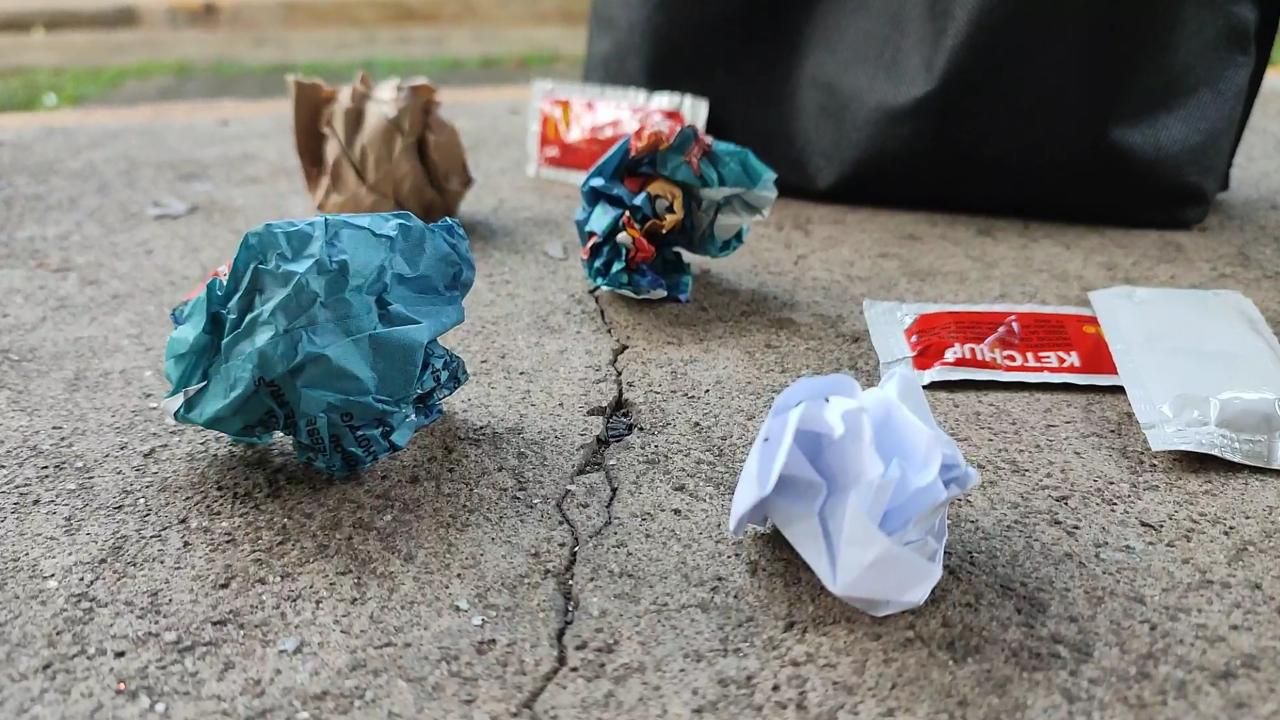Paper: (154, 194, 484, 479), (726, 352, 990, 623), (562, 130, 776, 298), (274, 60, 480, 228)
